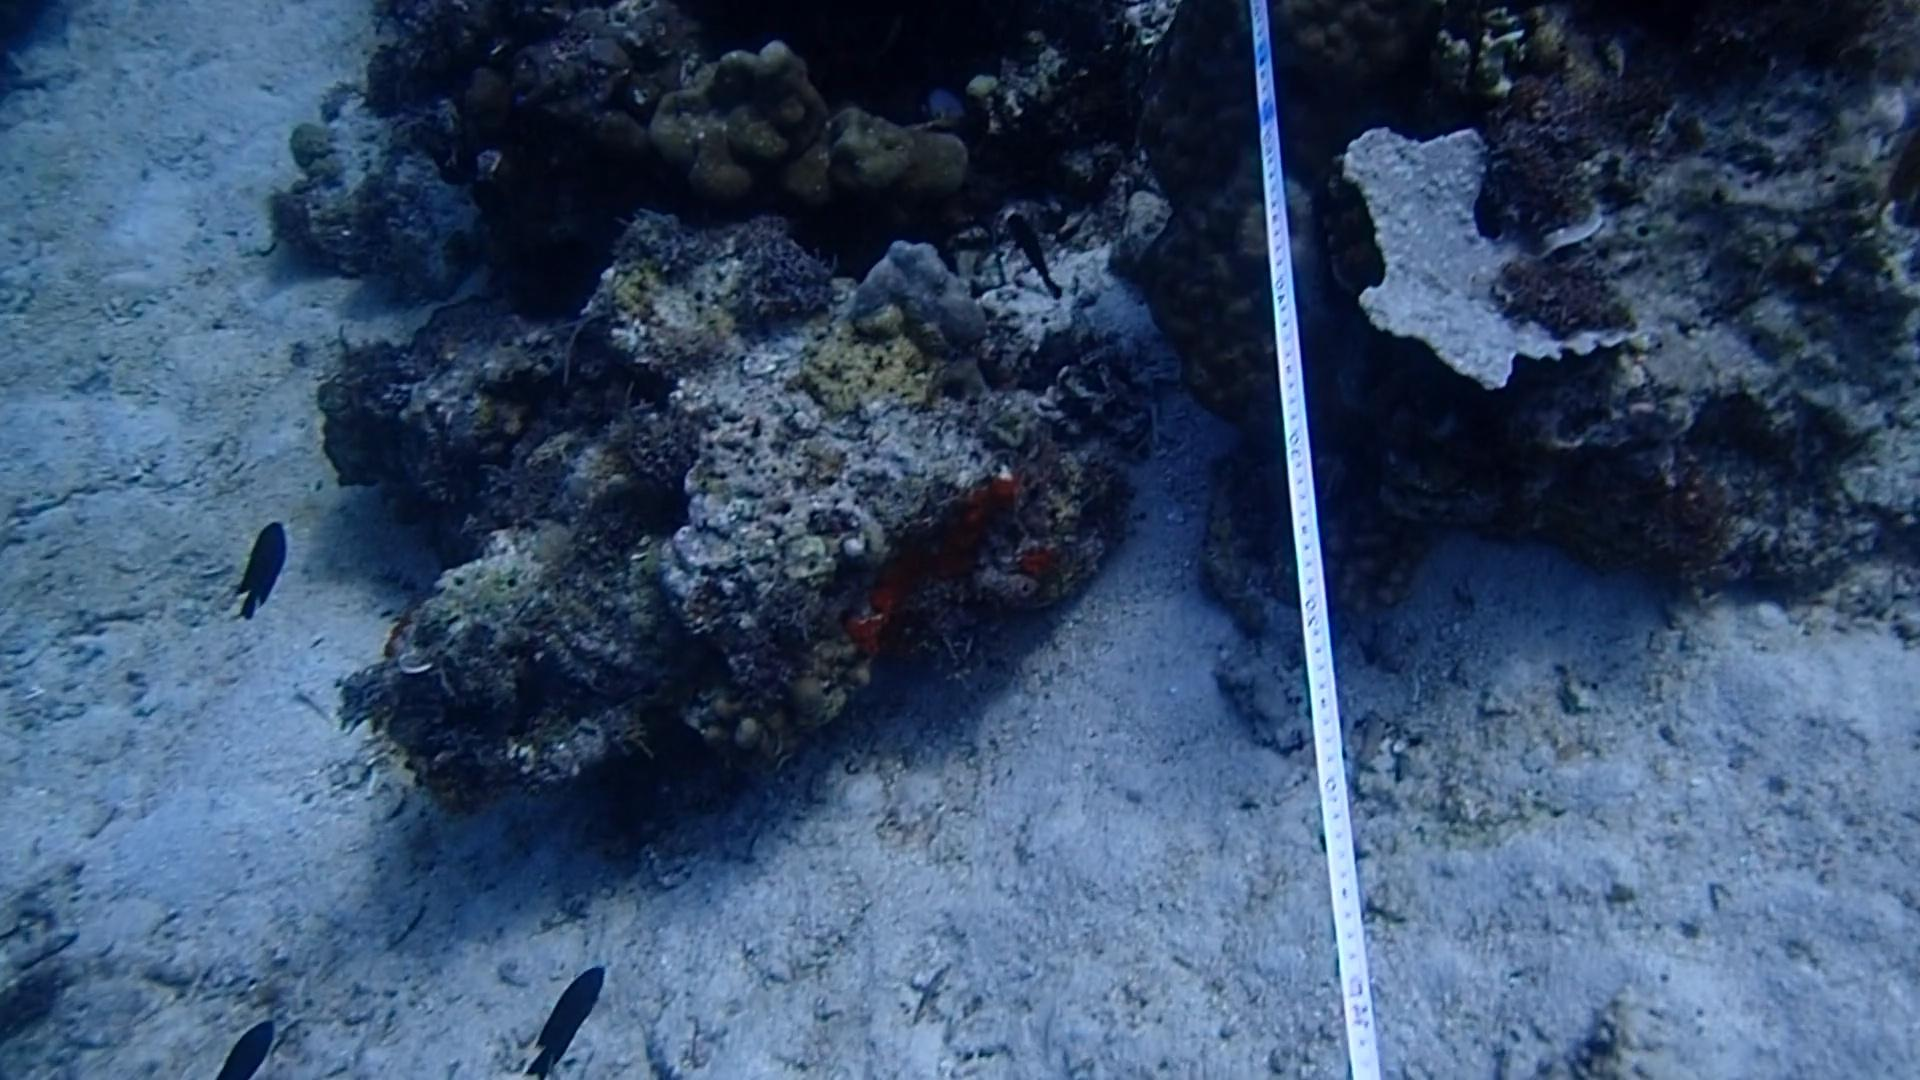Dark Fish: (516, 965, 621, 1077), (219, 513, 311, 633), (200, 1001, 297, 1080), (1010, 204, 1079, 291)
